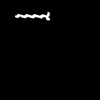half_double_crochet: (15, 12, 49, 19)
